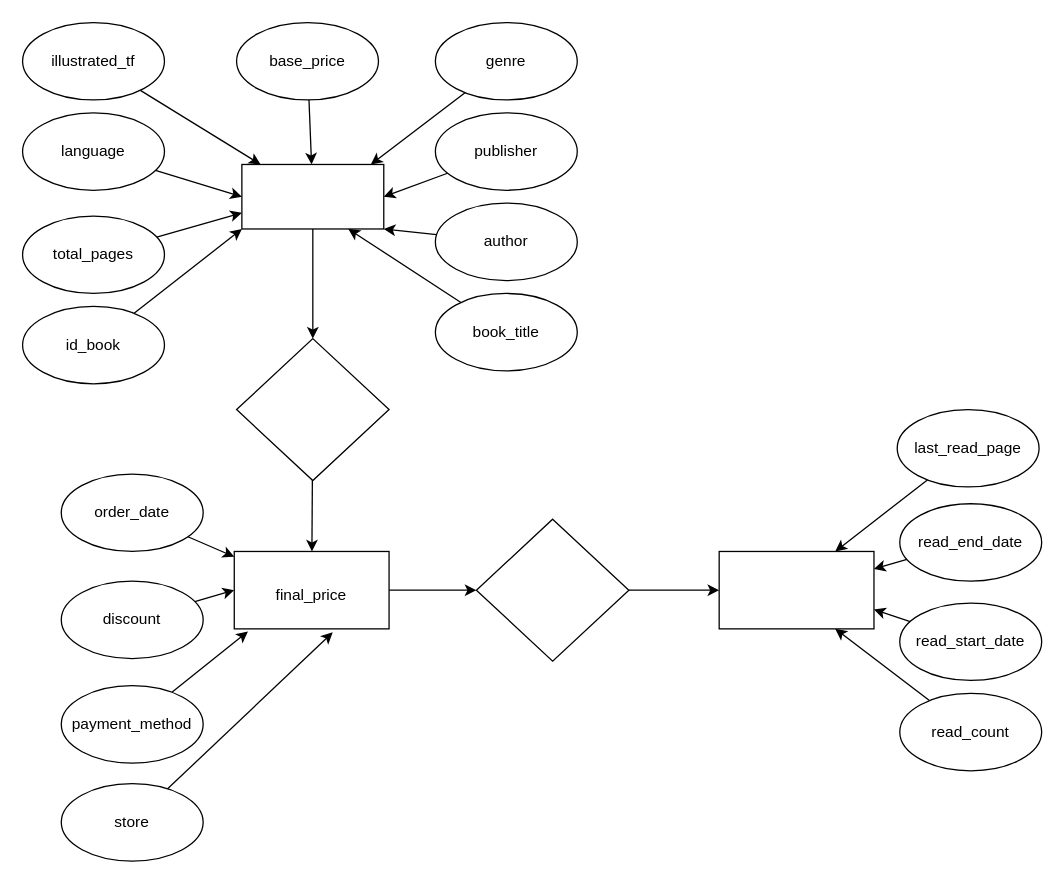
Some shapes in this 1064 by 884 pixel diagram are drawn without their labels. The shapes that lost their labels are listed below. From the top down, each one's centre as x and y in pixels, then its label:
At (x=312, y=196): "Book".
At (x=312, y=409): "placed order".
At (x=552, y=589): "got the book".
At (x=796, y=589): "reading_info".
